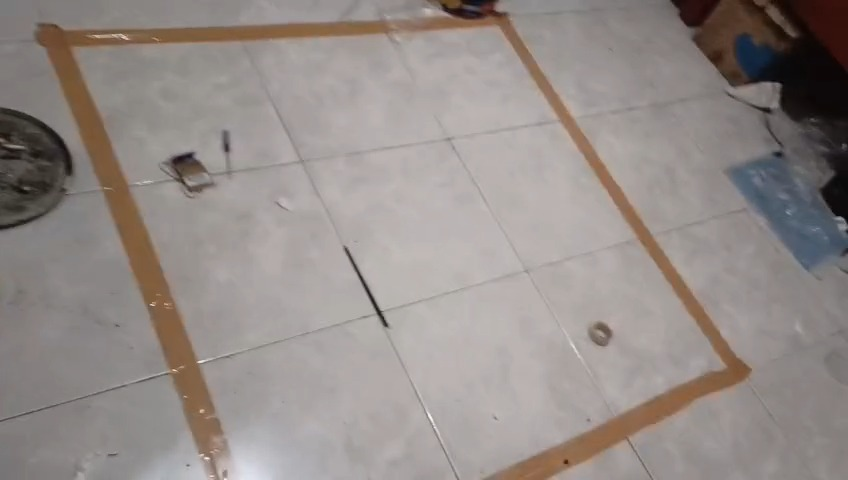floor marking: (36, 14, 750, 479)
